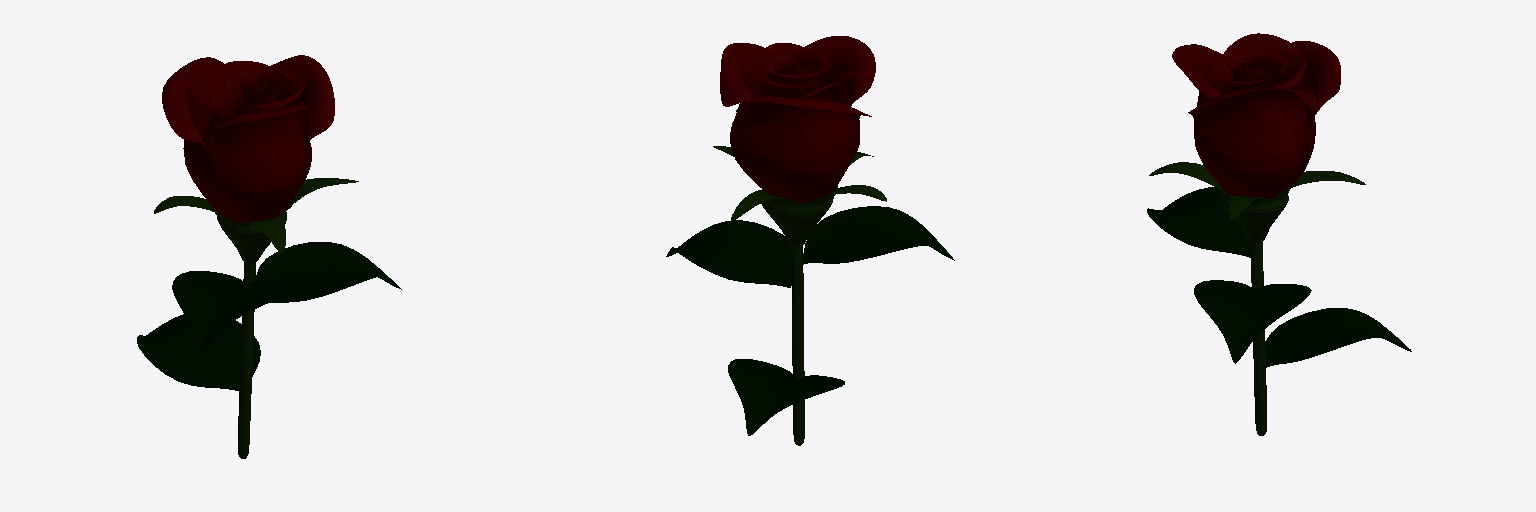
The model's file is Rose_flower.obj.
3 renders of one model, left to right at view 1: azimuth 30°, elevation 25°; view 2: azimuth 150°, elevation 25°; view 3: azimuth 270°, elevation 25°, orthographic.
Visible parts, largest first — view 1: Rose_flower; view 2: Rose_flower; view 3: Rose_flower.
Boxes of the visible parts, x1=… form: Rose_flower: x1=137, y1=55, x2=401, y2=458; Rose_flower: x1=666, y1=36, x2=954, y2=445; Rose_flower: x1=1147, y1=33, x2=1411, y2=435.
Size of the model in its own units: 3.72 by 5.5 by 3.48.